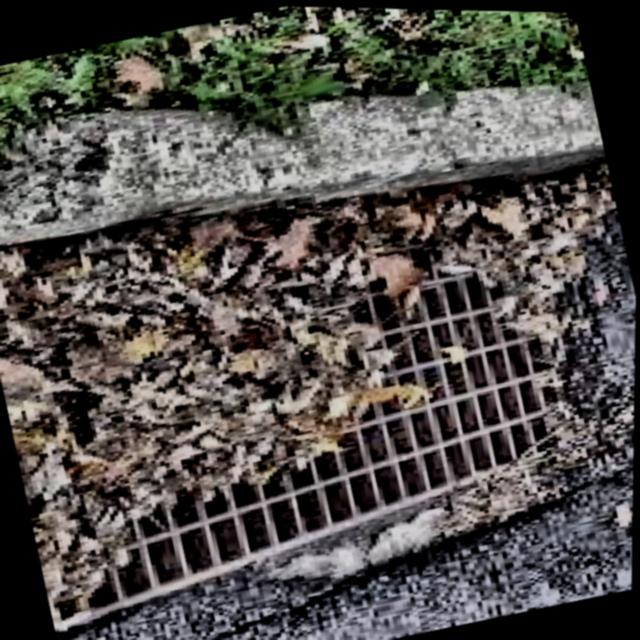Alligator Cracks: (0, 215, 572, 612)
